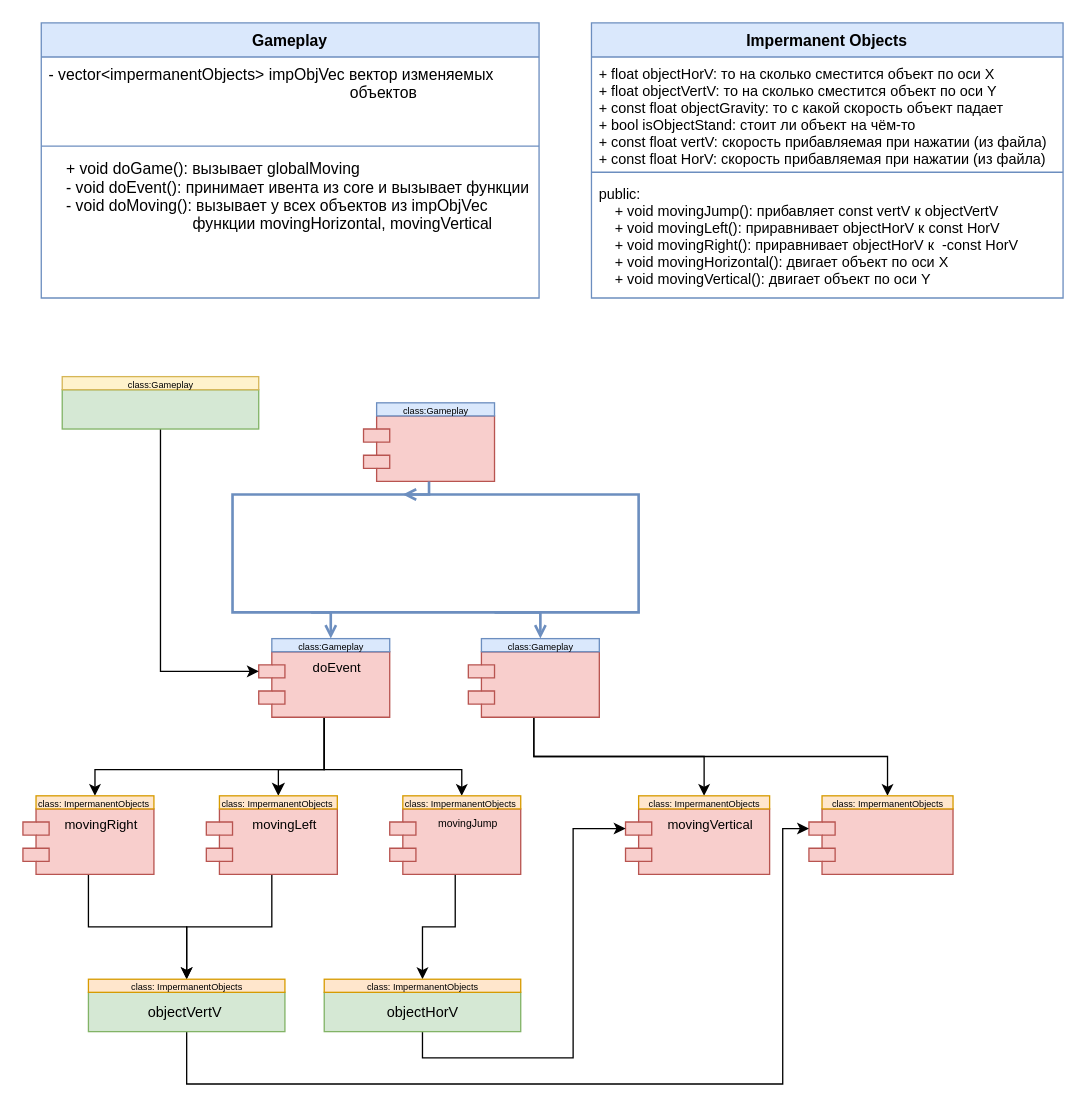
Some shapes in this 1086 by 1117 pixel diagram are drawn without their labels. The centre of each missing label's shape, as x and y in pixels:
doGame: the point at 428,448
doMoving: the point at 533,683
eventVecForGame: the point at 160,408
movingHorizontal: the point at 880,841
